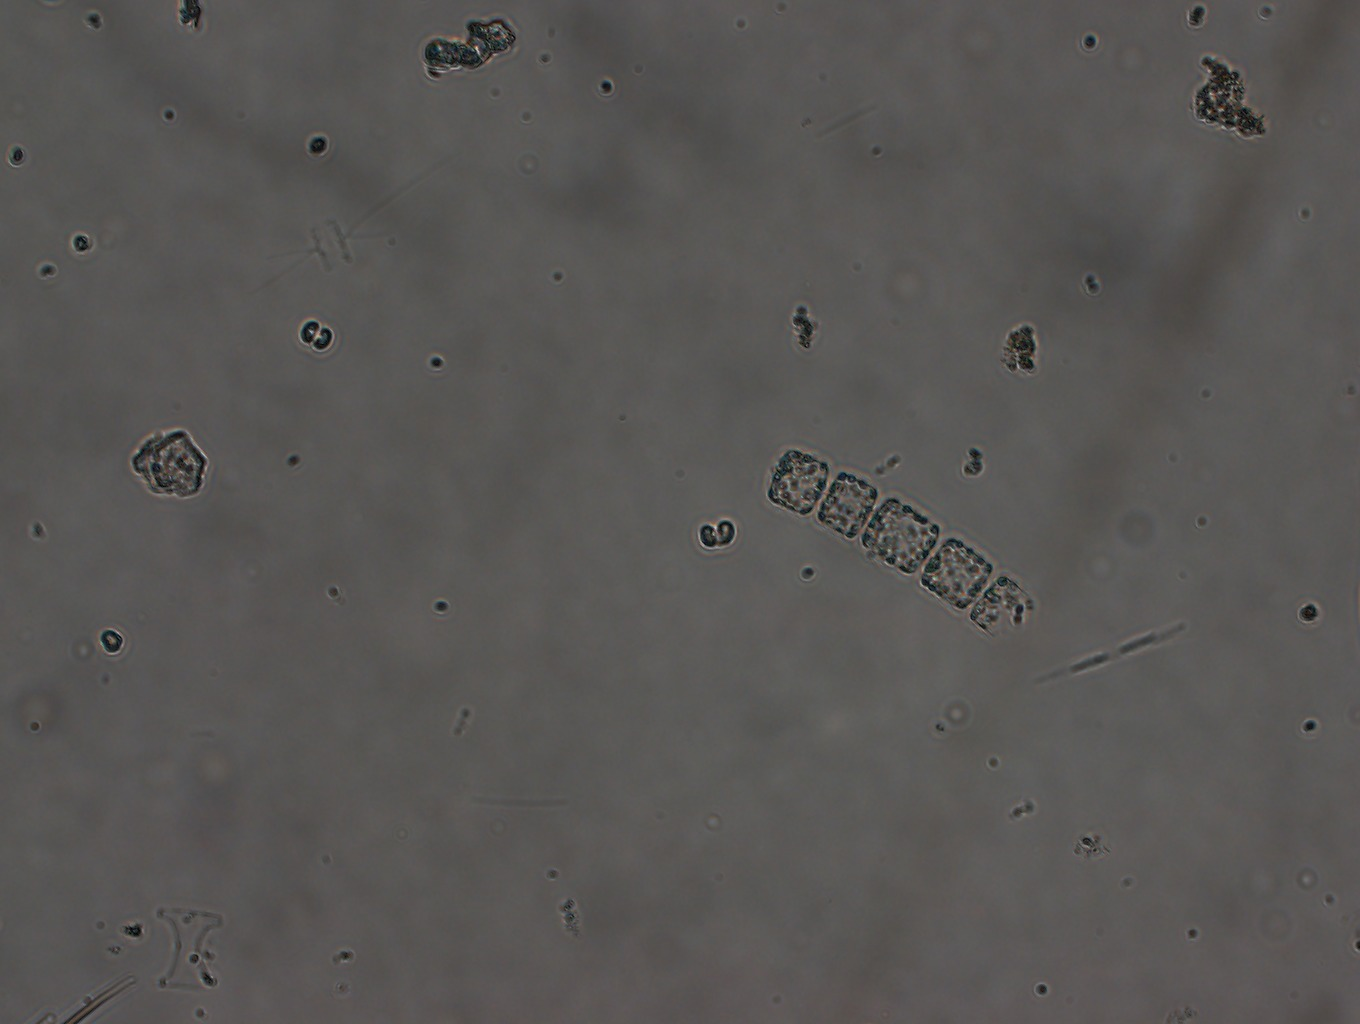detonula pumila: (753, 435, 1042, 646)
